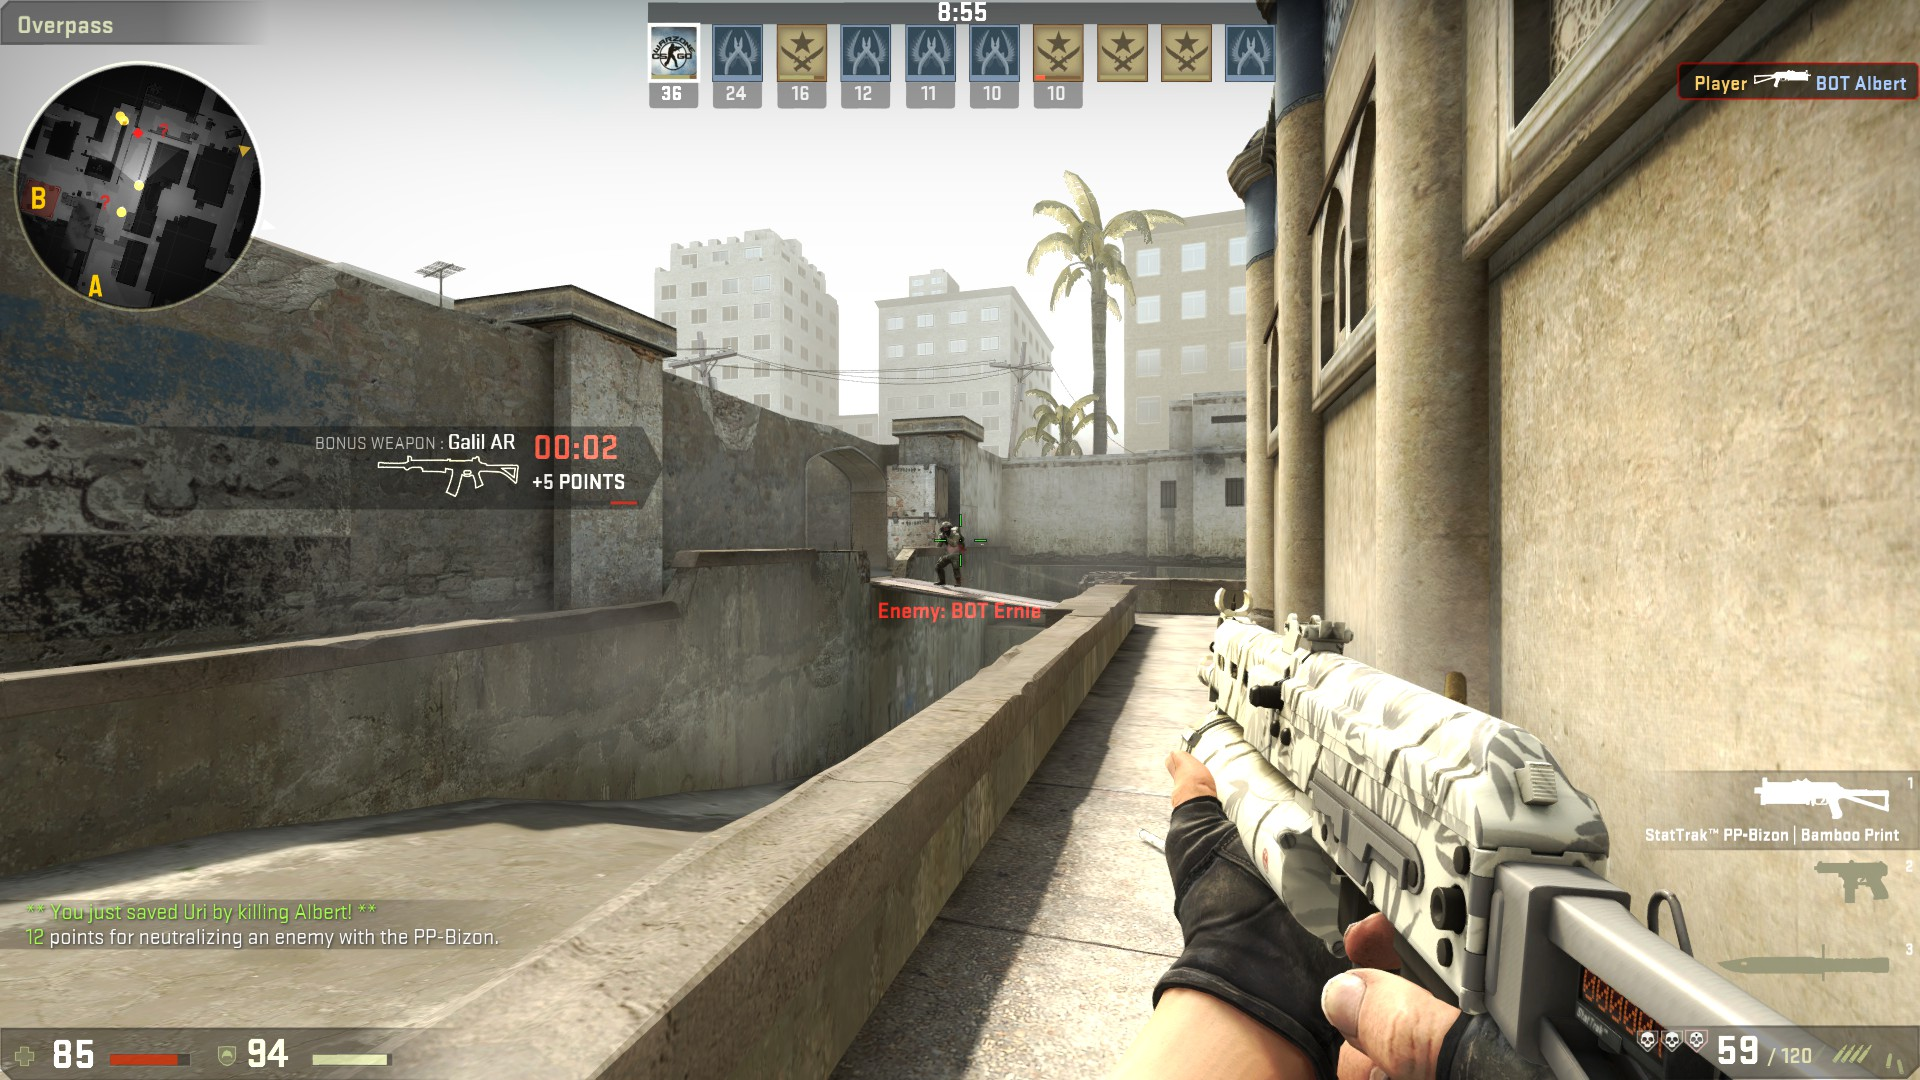c: (934, 520, 963, 588)
ch: (942, 521, 953, 537)
